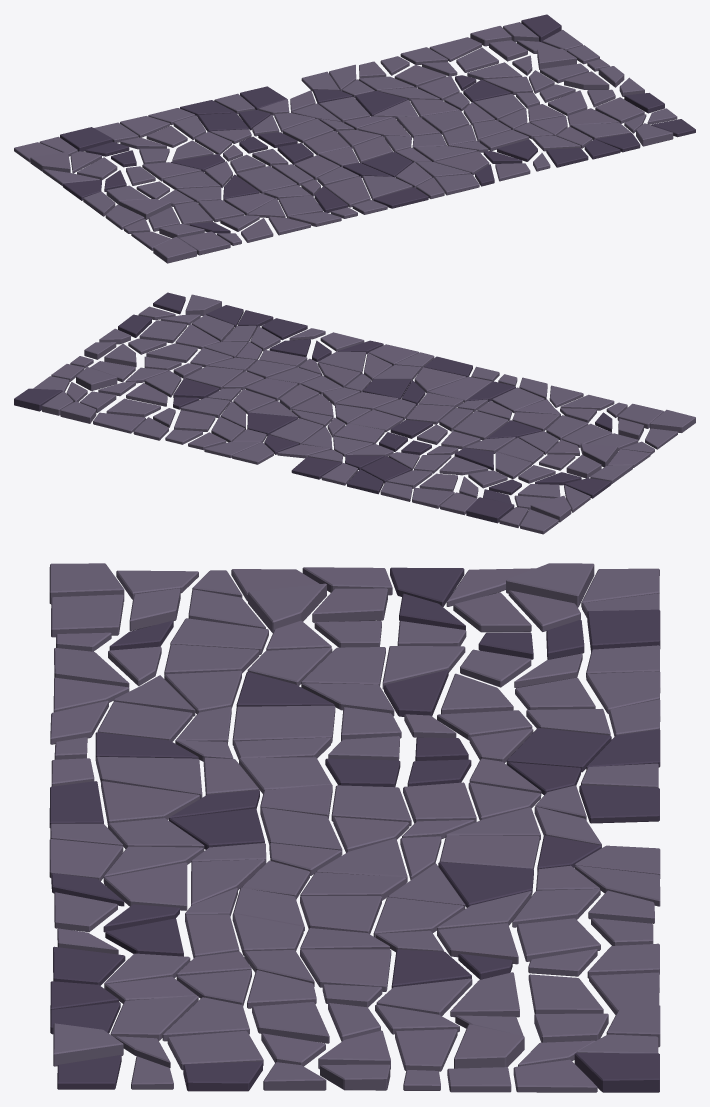
The model's file is Floor2.fbx.
3 views of the same model, one above another, from view 1: azimuth 30°, elevation 25°; view 2: azimuth 150°, elevation 25°; view 3: azimuth 270°, elevation 25° (orthographic). The views are drawn at different scales.
Parts seen in each view (by area): view 1: Slab1_0_0.001; view 2: Slab1_0_0.001; view 3: Slab1_0_0.001.
Part boxes in pixels (x1,y1,x2,y2): Slab1_0_0.001: (14,14,695,263); Slab1_0_0.001: (14,292,695,534); Slab1_0_0.001: (49,563,660,1092).
Size of the model in its own units: 14970 by 199 by 7470.
